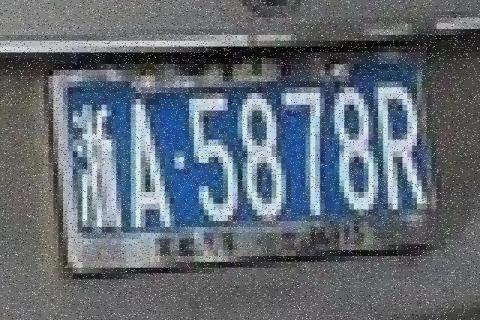LicensePlate: (47, 45, 446, 276)
